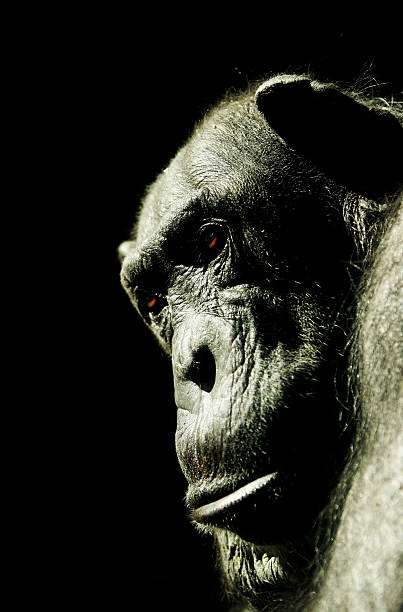chimpanzee: (78, 58, 401, 612)
